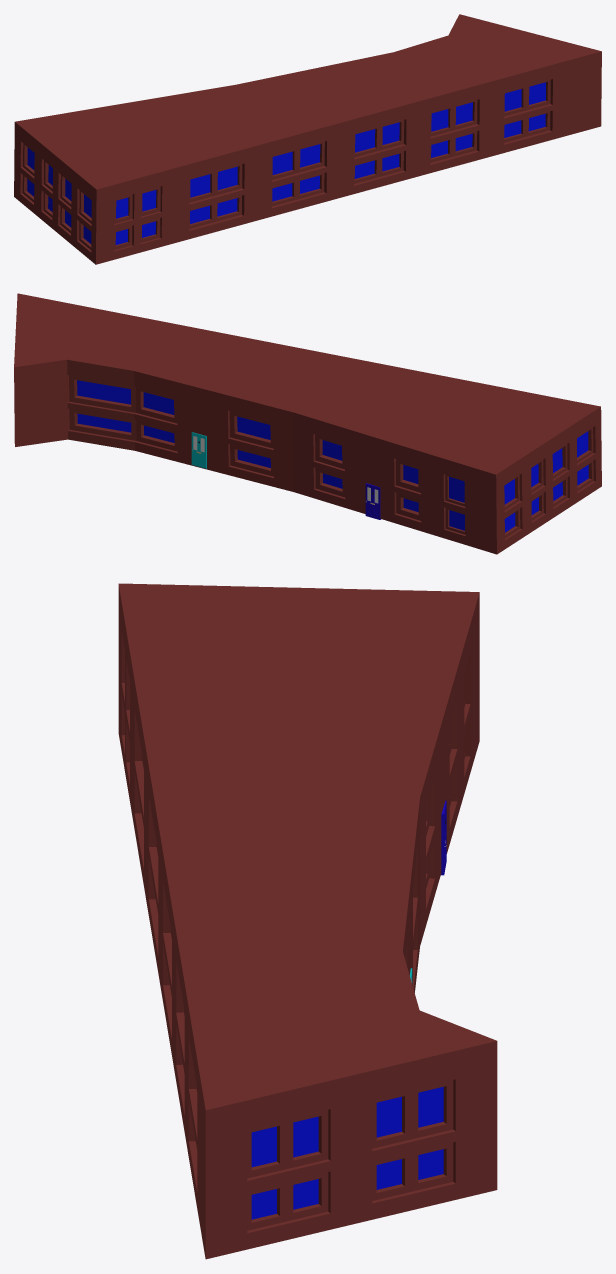
The model's file is KingstonStreetHouse2.fbx.
3 views of the same model, one above another, from view 1: azimuth 30°, elevation 25°; view 2: azimuth 150°, elevation 25°; view 3: azimuth 270°, elevation 25° (orthographic). The views are drawn at different scales.
Parts seen in each view (by area): view 1: KingstonStreetHouse2; view 2: KingstonStreetHouse2, Door2, Door1; view 3: KingstonStreetHouse2.
Boxes of the visible parts, <box> form: KingstonStreetHouse2: <box>14,14,601,264</box>; KingstonStreetHouse2: <box>14,293,601,554</box>; Door2: <box>365,483,381,519</box>; Door1: <box>191,432,206,468</box>; KingstonStreetHouse2: <box>118,583,497,1259</box>.
Size of the model in its own units: 7373 by 1083 by 2292.
